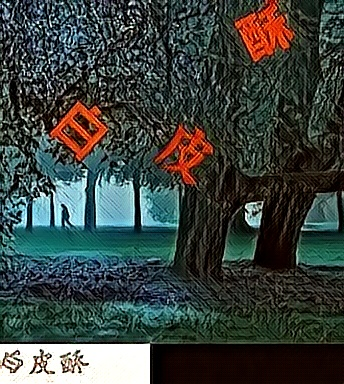B0D7: (49, 99, 109, 163)
C6A4: (154, 119, 214, 183)
CBD6: (234, 4, 294, 68)
